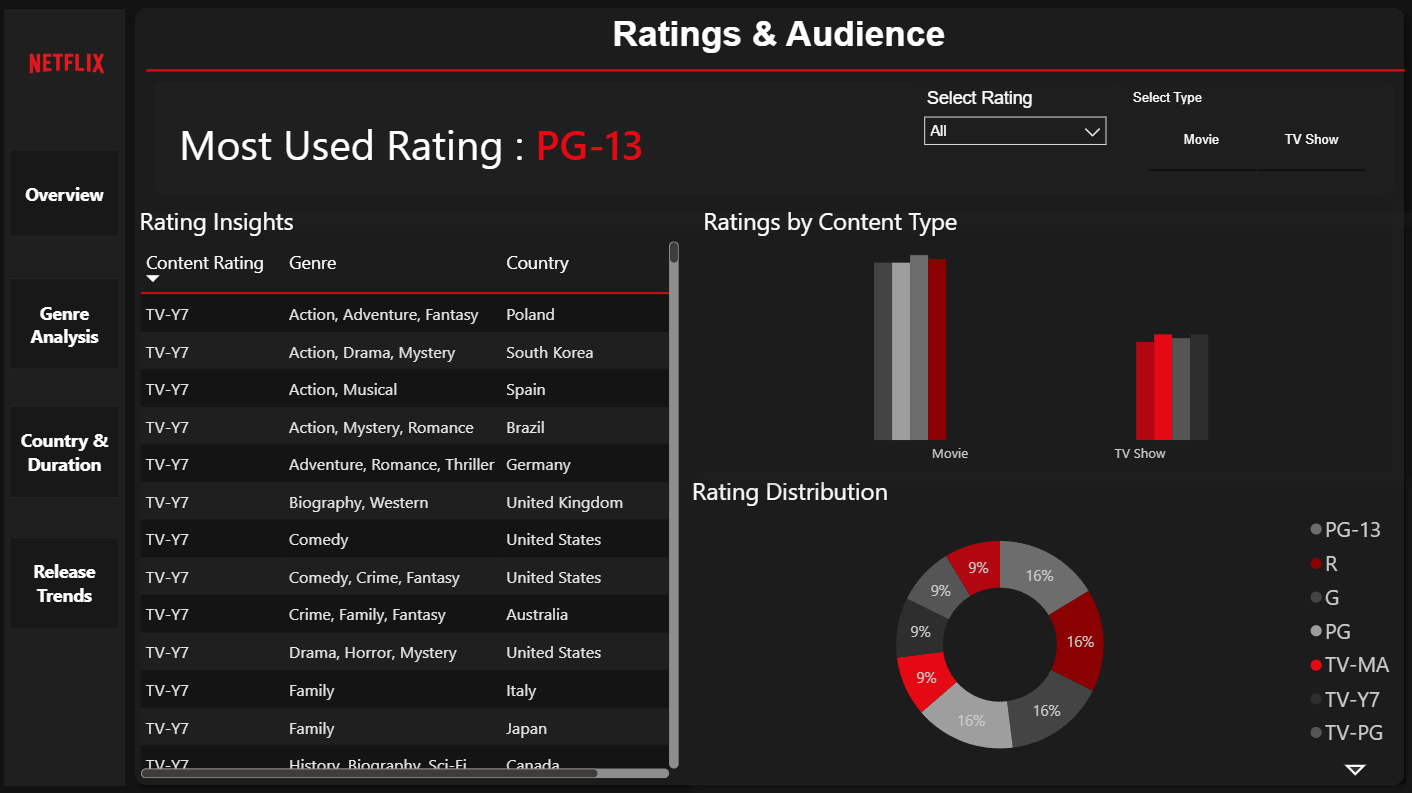

What the dashboard file says about the page in this screenshot:
{"tool":"powerbi","page":{"name":"Ratings & Audience","canvas":[1280,720],"ordinal":3},"visuals":[{"type":"shape","box":[114.1,0,1165.9,720.7],"z":0},{"type":"shape","box":[119.4,0,1152.2,76],"z":1000},{"type":"cardVisual","title":"Total Titles","fields":{"Data":["Measures Table.Most Used Rating"]},"box":[122.4,58.4,1157.6,136.3],"z":2000},{"type":"donutChart","title":"Rating Distribution","fields":{"Category":["Nithish.Content Rating"],"Y":["Measures Table.Total Titles"]},"box":[621.3,430.7,650.3,279.9],"z":3000},{"type":"textbox","box":[512.7,9.7,377.6,55.5],"z":4000},{"type":"clusteredColumnChart","title":"Ratings by Content Type","fields":{"Category":["Nithish.Type"],"Series":["Nithish.Content Rating"],"Y":["Measures Table.Total Titles"]},"box":[631.7,186.4,628.9,243.5],"z":5000},{"type":"tableEx","title":"Rating Insights","fields":{"Values":["Nithish.Content Rating","Nithish.Genre","Nithish.Country"]},"box":[122.4,186.4,498.1,524.5],"z":6000},{"type":"shape","box":[133.6,5.6,1138.1,119.7],"z":7000},{"type":"shape","box":[4.2,9.7,109.9,702.6],"z":8000},{"type":"actionButton","box":[9.3,368.9,100.2,83.9],"z":9000},{"type":"actionButton","box":[9.3,136.3,100.2,79.2],"z":10000},{"type":"actionButton","box":[9.3,252.8,100.2,82.7],"z":11000},{"type":"actionButton","box":[9.3,486.9,100.2,83.9],"z":12000},{"type":"slicer","fields":{"Values":["Nithish.Content Rating"]},"box":[826.4,76.5,185,75.1],"z":13000},{"type":"slicer","fields":{"Values":["Nithish.Type"]},"box":[1011.5,76.5,249,87.7],"z":14000},{"type":"image","box":[0,0,122.4,124.7],"z":15000}]}

Visuals, with their boxes in screenshot pixels (x1, y1, x2, y2), scaled from the page's 1280x720 canvas onto the 1412x793 screenshot:
shape: left=126, top=0, right=1411, bottom=792
shape: left=132, top=0, right=1403, bottom=84
"Total Titles" cardVisual: left=135, top=64, right=1411, bottom=214
"Rating Distribution" donutChart: left=685, top=474, right=1403, bottom=783
textbox: left=566, top=11, right=982, bottom=72
"Ratings by Content Type" clusteredColumnChart: left=697, top=205, right=1391, bottom=473
"Rating Insights" tableEx: left=135, top=205, right=684, bottom=783
shape: left=147, top=6, right=1403, bottom=138
shape: left=5, top=11, right=126, bottom=785
actionButton: left=10, top=406, right=121, bottom=499
actionButton: left=10, top=150, right=121, bottom=237
actionButton: left=10, top=278, right=121, bottom=370
actionButton: left=10, top=536, right=121, bottom=629
slicer - Nithish.Content Rating: left=912, top=84, right=1116, bottom=167
slicer - Nithish.Type: left=1116, top=84, right=1390, bottom=181
image: left=0, top=0, right=135, bottom=137
